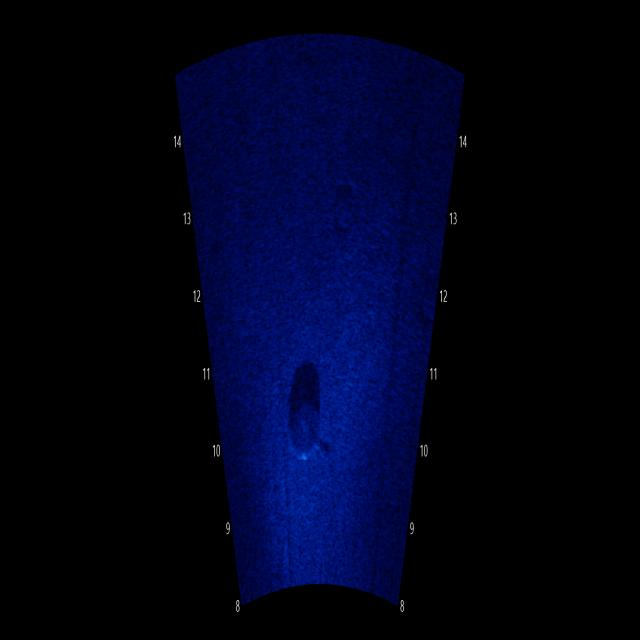circle: (281, 390, 325, 455)
